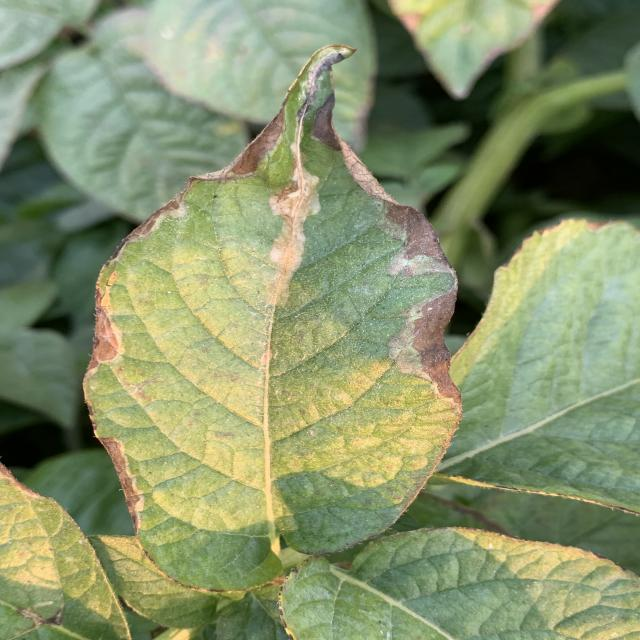lateblight: (310, 92, 397, 205), (397, 285, 460, 410), (113, 178, 202, 264), (270, 140, 312, 306), (198, 104, 287, 180), (385, 202, 453, 279), (85, 262, 125, 380), (100, 438, 145, 528), (292, 164, 320, 224)
